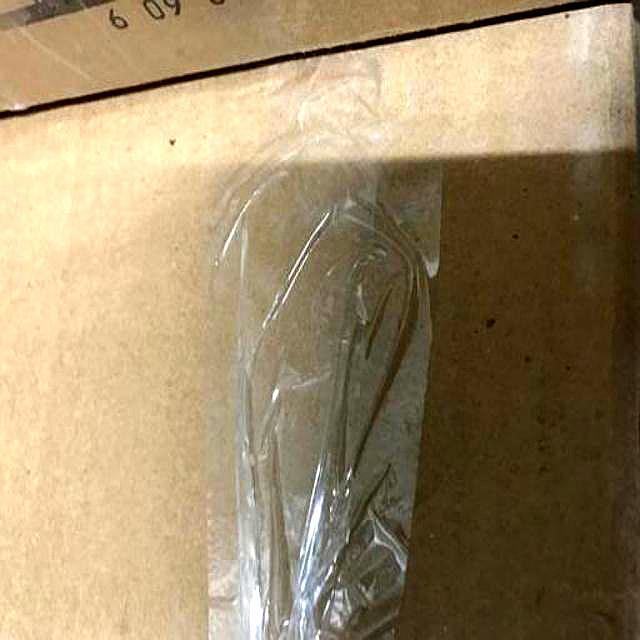Biodegradable: (1, 1, 637, 640)
